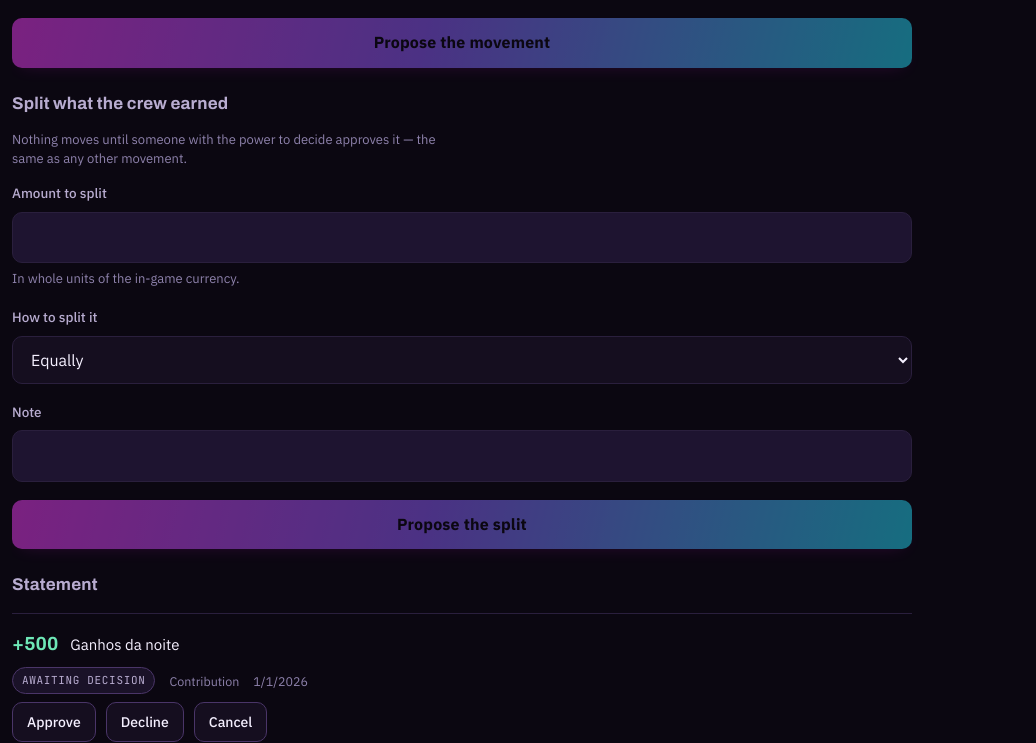
Scenario: dividir o que a crew ganhou › não oferece um evento onde ninguém apareceu
(page scrolled)
Select "By who turned up" in the dropdown labelled "How to split it" at {"x": 462, "y": 360}, box [12,336,912,384]
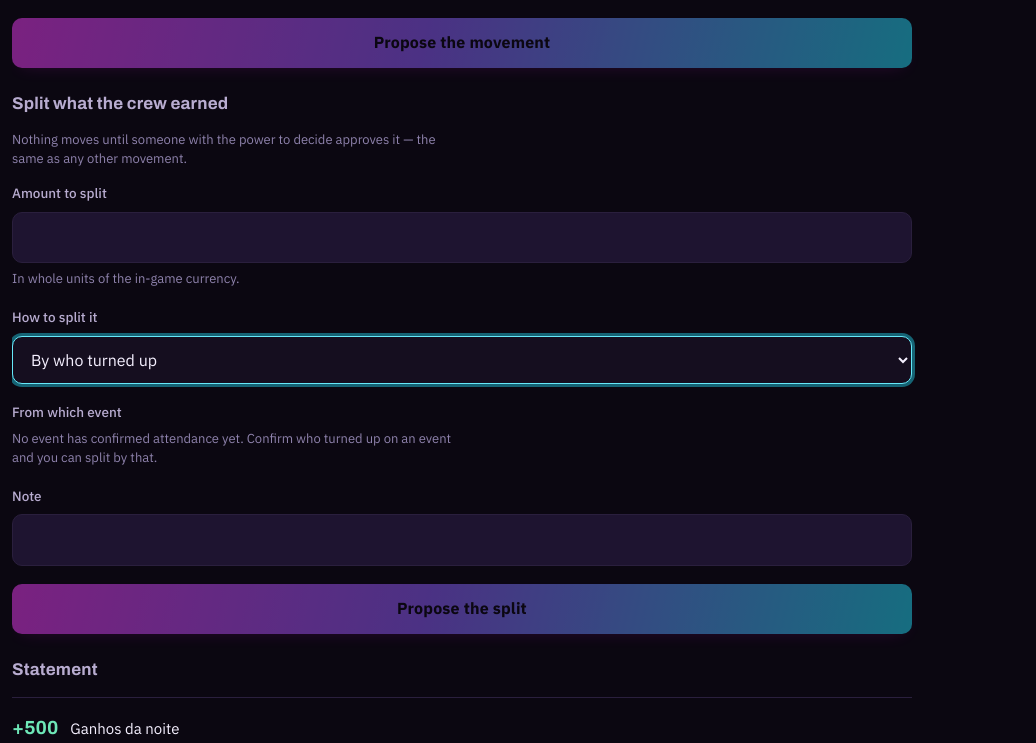
Check: the text "No event has confirmed attendance yet. Confirm who turned up on an event and you can split by that." is shown, box [12,430,451,466]
